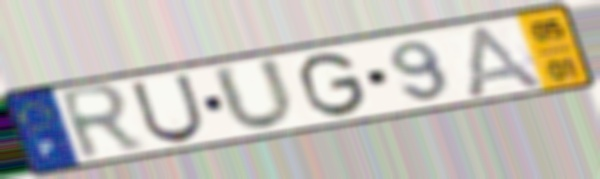9: (386, 38, 452, 104)
A: (460, 21, 551, 99)
G: (296, 49, 371, 120)
R: (53, 81, 150, 165)
U: (206, 53, 300, 134), (127, 71, 208, 146)
